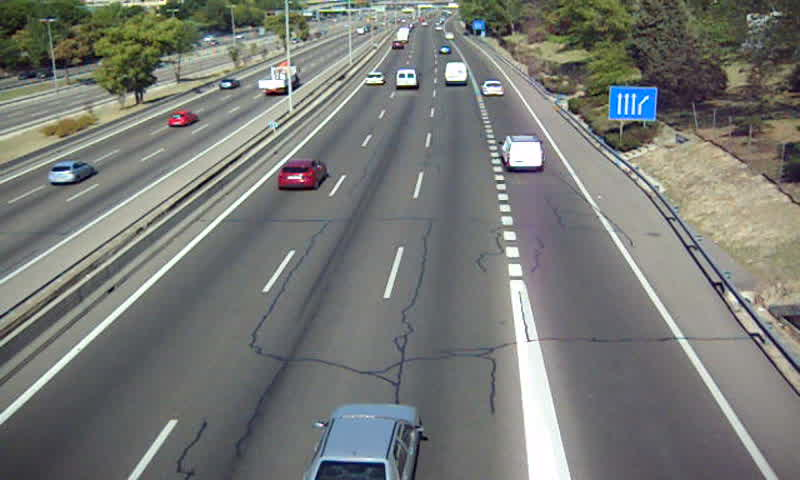car: (307, 404, 419, 480), (276, 159, 326, 188), (481, 80, 506, 97), (365, 71, 384, 84)
van: (503, 135, 544, 172), (394, 69, 418, 92), (445, 62, 469, 84)
